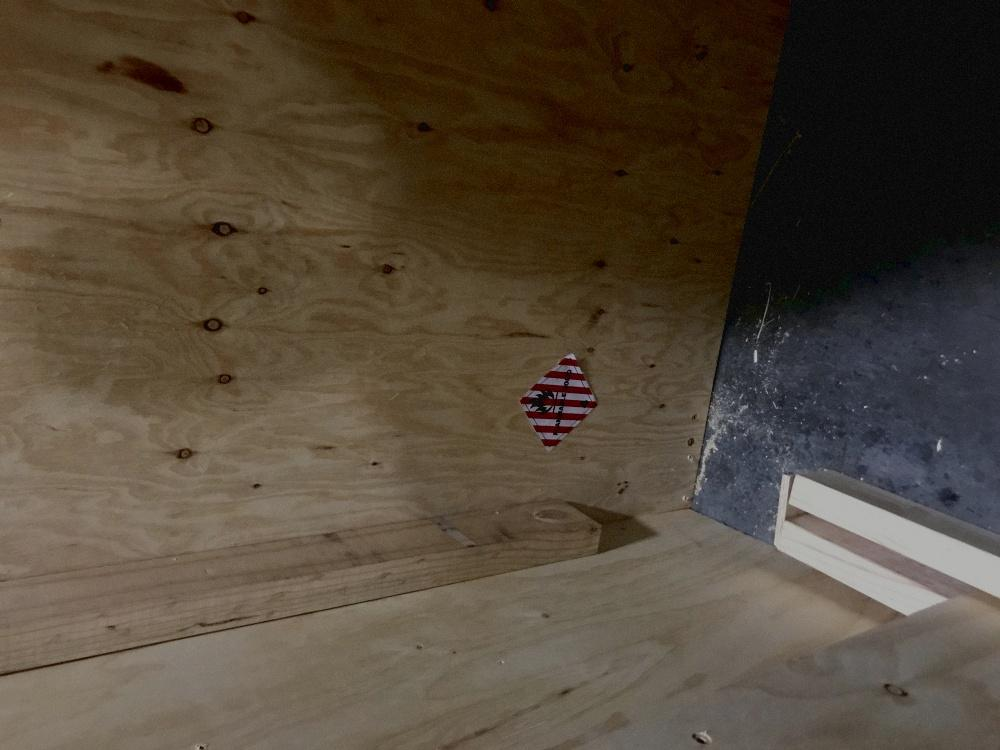flammable-solid: (521, 350, 599, 453)
